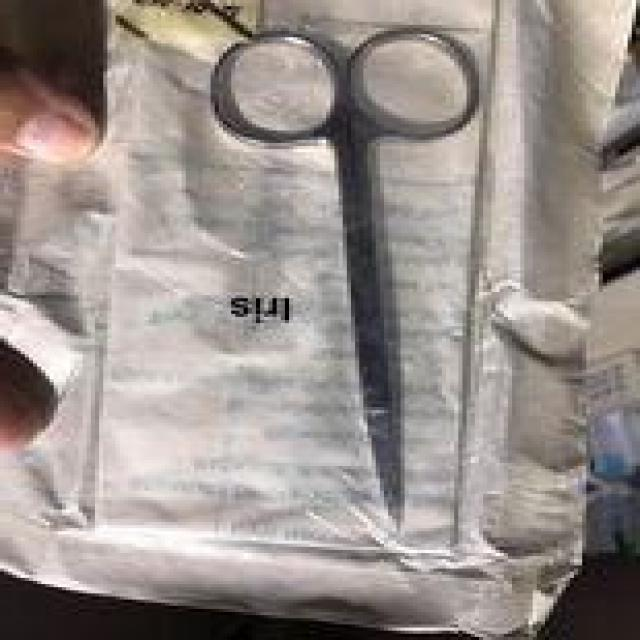Iris: (202, 22, 488, 534)
